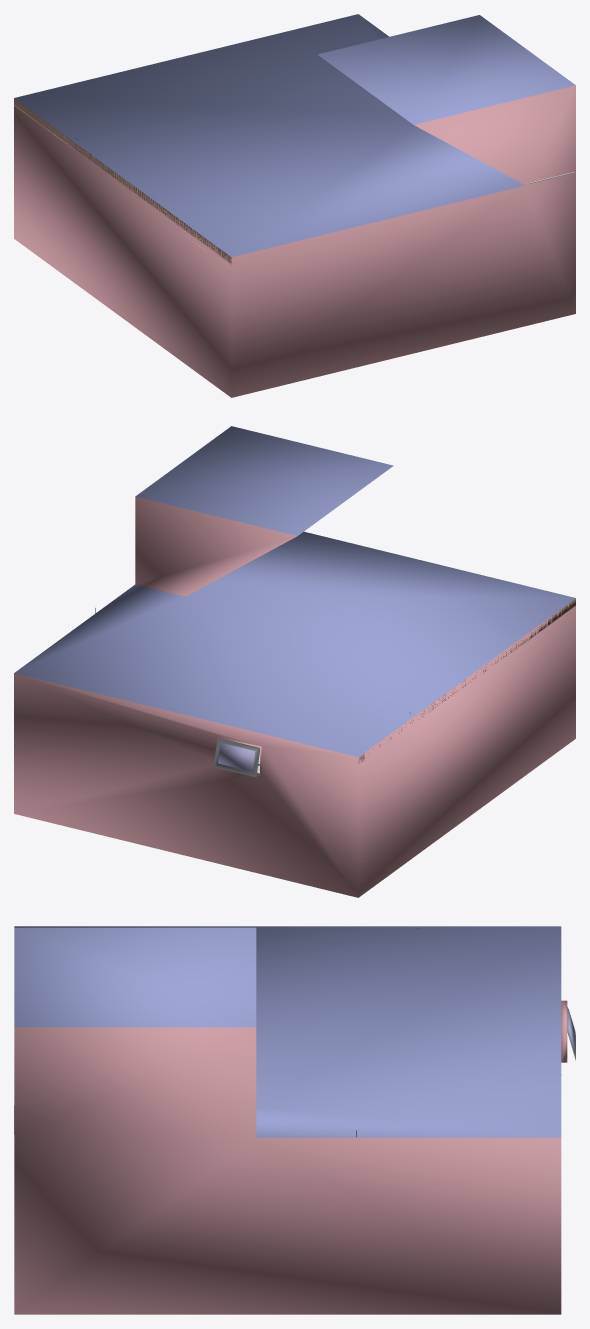
Rendered from Basement.fbx.
The picture shows the model from 3 angles, top to bottom: view 1: azimuth 30°, elevation 25°; view 2: azimuth 150°, elevation 25°; view 3: azimuth 270°, elevation 25°; orthographic projection. The views are drawn at different scales.
Visible parts, largest first — view 1: Basement, Beams; view 2: Basement, Window; view 3: Basement.
Part boxes in pixels (x1=…): Basement: x1=14, y1=14, x2=575, y2=397; Beams: x1=14, y1=98, x2=231, y2=264; Basement: x1=14, y1=426, x2=575, y2=897; Window: x1=213, y1=737, x2=259, y2=777; Basement: x1=14, y1=926, x2=567, y2=1314.
Size of the model in its own units: 12.31 by 7.81 by 13.82.
